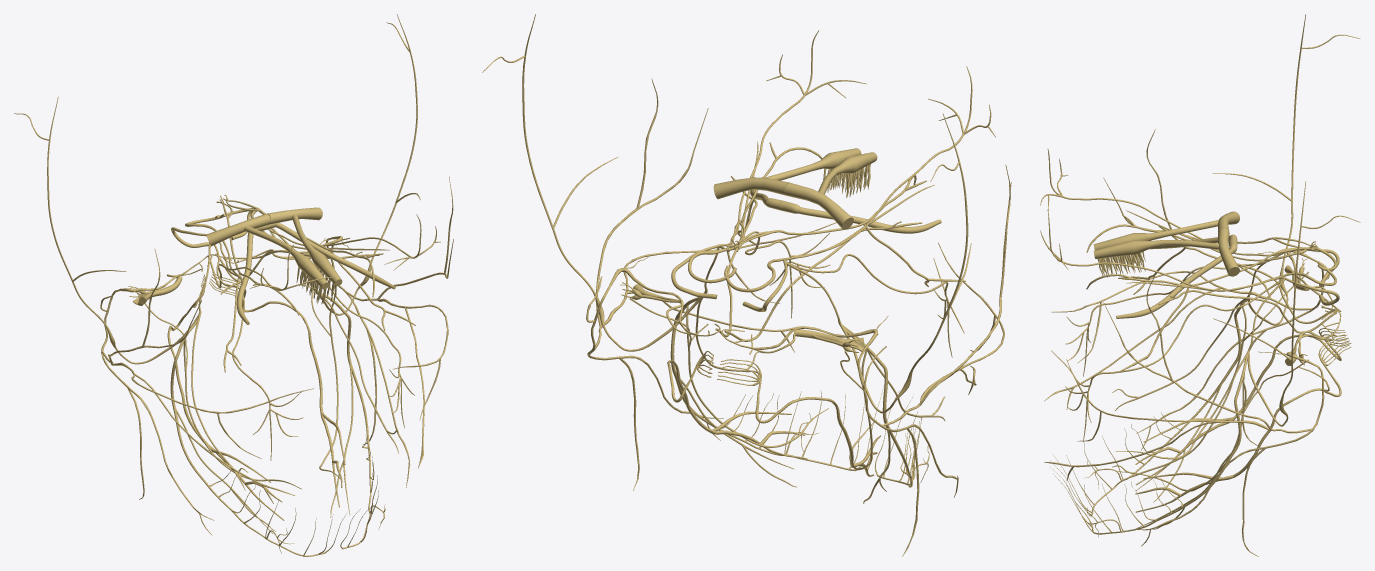
File: nervous-head-balanced.glb
The picture shows the model from 3 angles, left to right: view 1: azimuth 30°, elevation 25°; view 2: azimuth 150°, elevation 25°; view 3: azimuth 270°, elevation 25°; orthographic projection. The views are drawn at different scales.
Parts seen in each view (by area): view 1: za.facial-nerve-vii-r, za.facial-nerve-vii-l, za.olfactory-nerve-i-r, za.olfactory-nerve-i-l, za.hypoglossal-nerve-xii-l, za.meningeal-branch-of-maxillary-nerve-r, za.hypoglossal-nerve-xii-r, za.inferior-alveolar-nerve-r, za.meningeal-branch-of-maxillary-nerve-l, za.oculomotor-nerve-iii-l, za.inferior-alveolar-nerve-l, za.optic-nerve-ii-l (+4 smaller); view 2: za.facial-nerve-vii-l, za.facial-nerve-vii-r, za.olfactory-nerve-i-r, za.olfactory-nerve-i-l, za.meningeal-branch-of-maxillary-nerve-l, za.hypoglossal-nerve-xii-l, za.hypoglossal-nerve-xii-r, za.meningeal-branch-of-maxillary-nerve-r, za.inferior-alveolar-nerve-l, za.oculomotor-nerve-iii-r, za.ophthalmic-nerve-r, za.optic-nerve-ii-r (+7 smaller); view 3: za.facial-nerve-vii-l, za.facial-nerve-vii-r, za.olfactory-nerve-i-l, za.hypoglossal-nerve-xii-l, za.olfactory-nerve-i-r, za.hypoglossal-nerve-xii-r, za.meningeal-branch-of-maxillary-nerve-l, za.meningeal-branch-of-maxillary-nerve-r, za.inferior-alveolar-nerve-l, za.inferior-alveolar-nerve-r, za.oculomotor-nerve-iii-l, za.oculomotor-nerve-iii-r (+11 smaller).
Boxes of the visible parts, <box> form: za.facial-nerve-vii-r: <box>100,248,313,535</box>; za.facial-nerve-vii-l: <box>212,176,453,487</box>; za.olfactory-nerve-i-r: <box>206,213,328,304</box>; za.olfactory-nerve-i-l: <box>267,207,342,301</box>; za.hypoglossal-nerve-xii-l: <box>209,272,345,507</box>; za.meningeal-branch-of-maxillary-nerve-r: <box>14,96,198,364</box>; za.hypoglossal-nerve-xii-r: <box>167,274,284,520</box>; za.inferior-alveolar-nerve-r: <box>172,406,346,556</box>; za.meningeal-branch-of-maxillary-nerve-l: <box>316,14,420,315</box>; za.oculomotor-nerve-iii-l: <box>223,194,415,330</box>; za.inferior-alveolar-nerve-l: <box>340,363,382,549</box>; za.optic-nerve-ii-l: <box>265,222,395,289</box>; za.facial-nerve-vii-l: <box>586,78,836,490</box>; za.facial-nerve-vii-r: <box>721,165,1011,556</box>; za.olfactory-nerve-i-r: <box>785,152,877,229</box>; za.olfactory-nerve-i-l: <box>713,148,861,199</box>; za.meningeal-branch-of-maxillary-nerve-l: <box>482,14,706,351</box>; za.hypoglossal-nerve-xii-l: <box>667,351,807,459</box>; za.hypoglossal-nerve-xii-r: <box>717,359,880,476</box>; za.meningeal-branch-of-maxillary-nerve-r: <box>840,113,971,413</box>; za.inferior-alveolar-nerve-l: <box>673,373,883,471</box>; za.oculomotor-nerve-iii-r: <box>734,175,965,286</box>; za.ophthalmic-nerve-r: <box>783,66,995,261</box>; za.optic-nerve-ii-r: <box>780,201,941,233</box>; za.facial-nerve-vii-l: <box>1044,274,1341,556</box>; za.facial-nerve-vii-r: <box>1044,129,1341,450</box>; za.olfactory-nerve-i-l: <box>1093,228,1239,277</box>; za.hypoglossal-nerve-xii-l: <box>1135,334,1351,512</box>; za.olfactory-nerve-i-r: <box>1093,211,1239,271</box>; za.hypoglossal-nerve-xii-r: <box>1135,328,1351,485</box>; za.meningeal-branch-of-maxillary-nerve-l: <box>1213,181,1360,426</box>; za.meningeal-branch-of-maxillary-nerve-r: <box>1213,14,1360,325</box>; za.inferior-alveolar-nerve-l: <box>1050,448,1237,534</box>; za.inferior-alveolar-nerve-r: <box>1050,361,1236,515</box>; za.oculomotor-nerve-iii-l: <box>1086,243,1318,372</box>; za.oculomotor-nerve-iii-r: <box>1086,214,1318,294</box>.
Bounding box in the file's own units: 0.1525 × 0.1636 × 0.1123.
